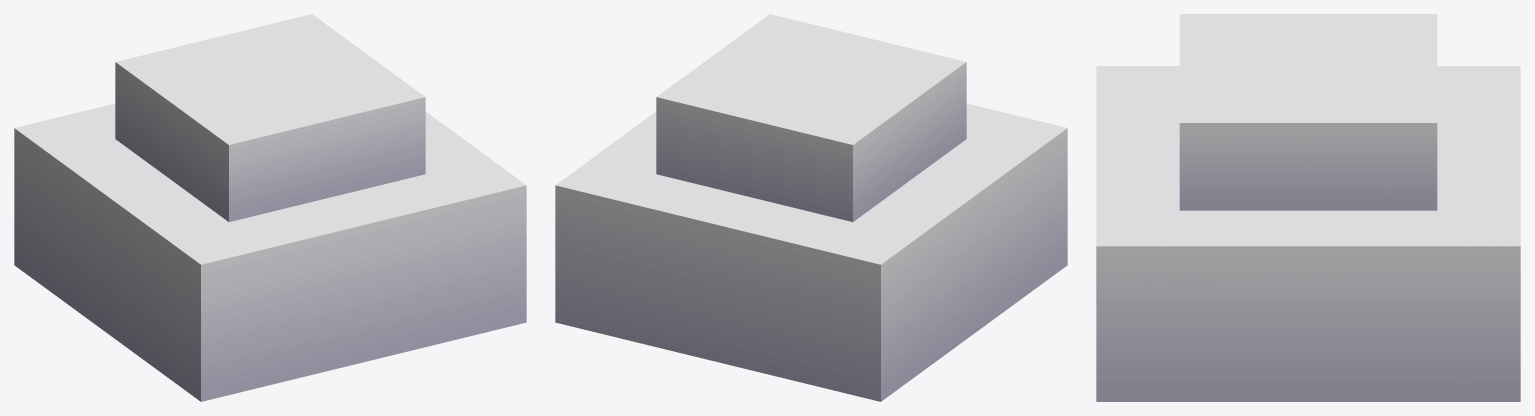
Rendered from square_lq_plate_1x1.glb.
3 views of the same model, side by side, from view 1: azimuth 30°, elevation 25°; view 2: azimuth 150°, elevation 25°; view 3: azimuth 270°, elevation 25° (orthographic). The views are drawn at different scales.
Visible parts, largest first — view 1: square-lq-plate-1x1; view 2: square-lq-plate-1x1; view 3: square-lq-plate-1x1.
Part boxes in pixels (x1,y1,x2,y2): square-lq-plate-1x1: [14, 14, 526, 401]; square-lq-plate-1x1: [555, 14, 1067, 401]; square-lq-plate-1x1: [1096, 14, 1520, 401].
Size of the model in its own units: 0.0795 by 0.05 by 0.079.
Materials: 1 (1 with a texture image).
